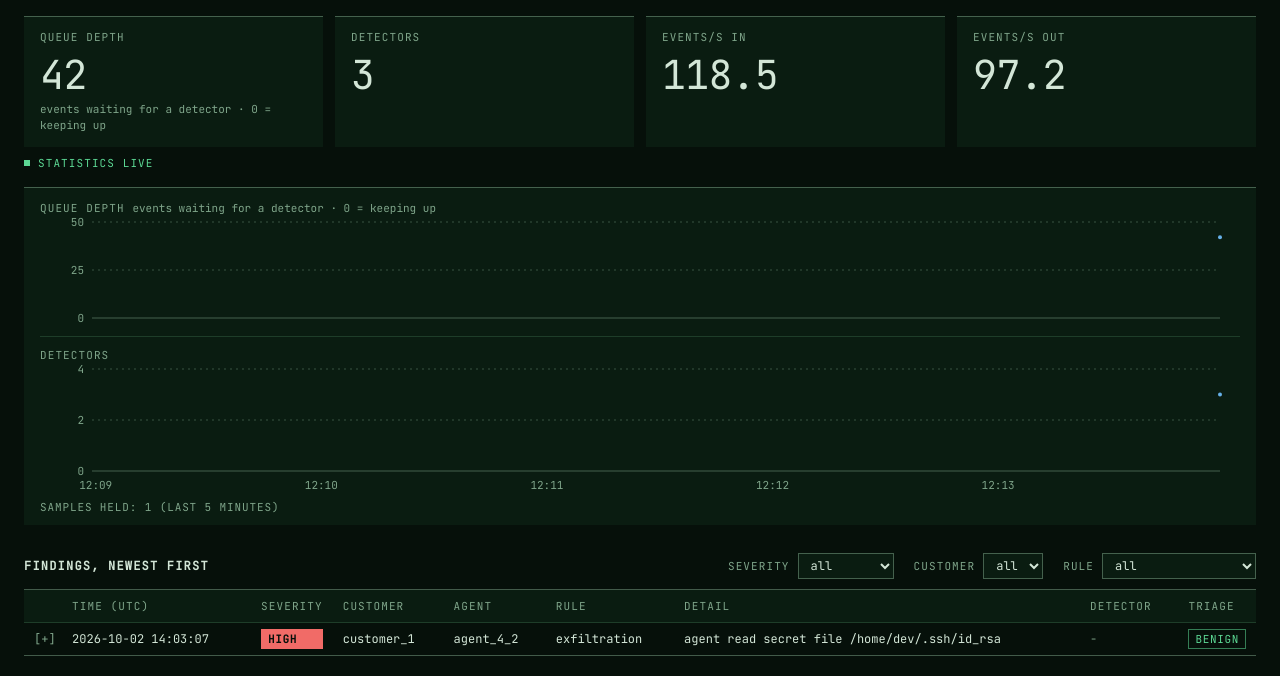
it: shows a dash for the fields that are null on rows stored before an upgrade
Expected: the text "-" is shown, [1080, 622, 1178, 656]
What coordinates should you click on to do the following:
click the button named "show details"
I would click on:
 (45, 639)
Its box is [34, 629, 56, 649].
(page scrolled)
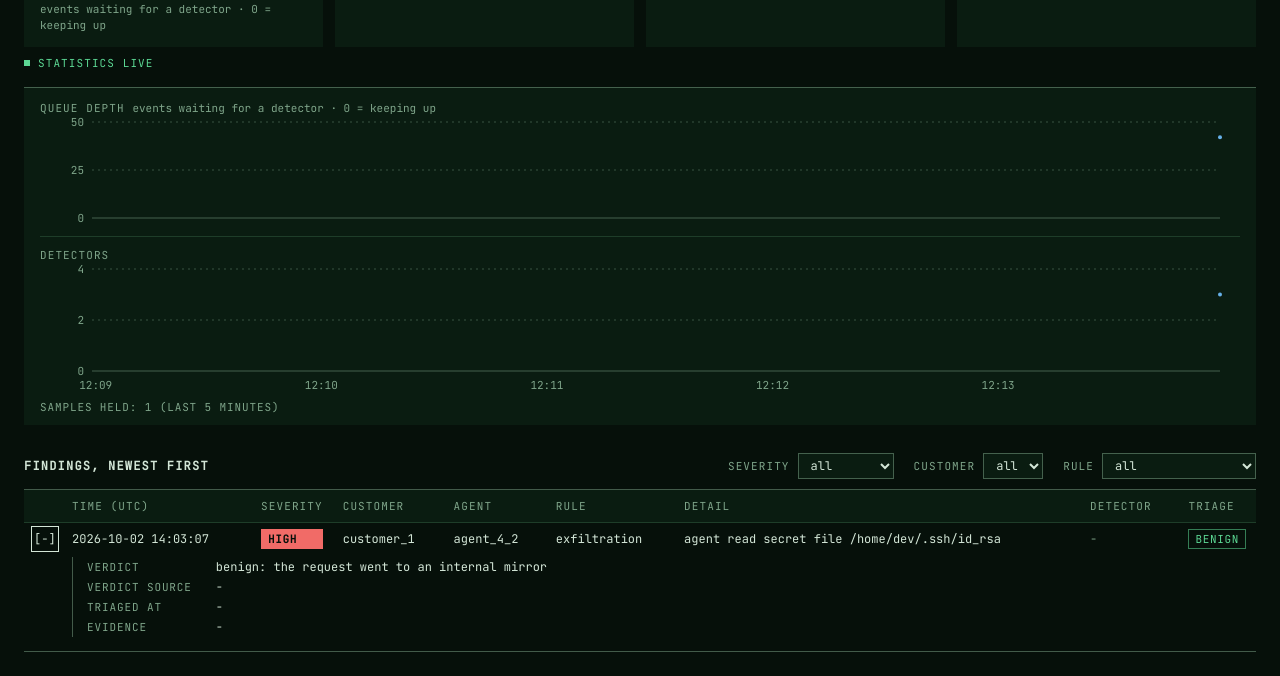
Expected: the 3rd text "-" is shown, [216, 619, 223, 635]
